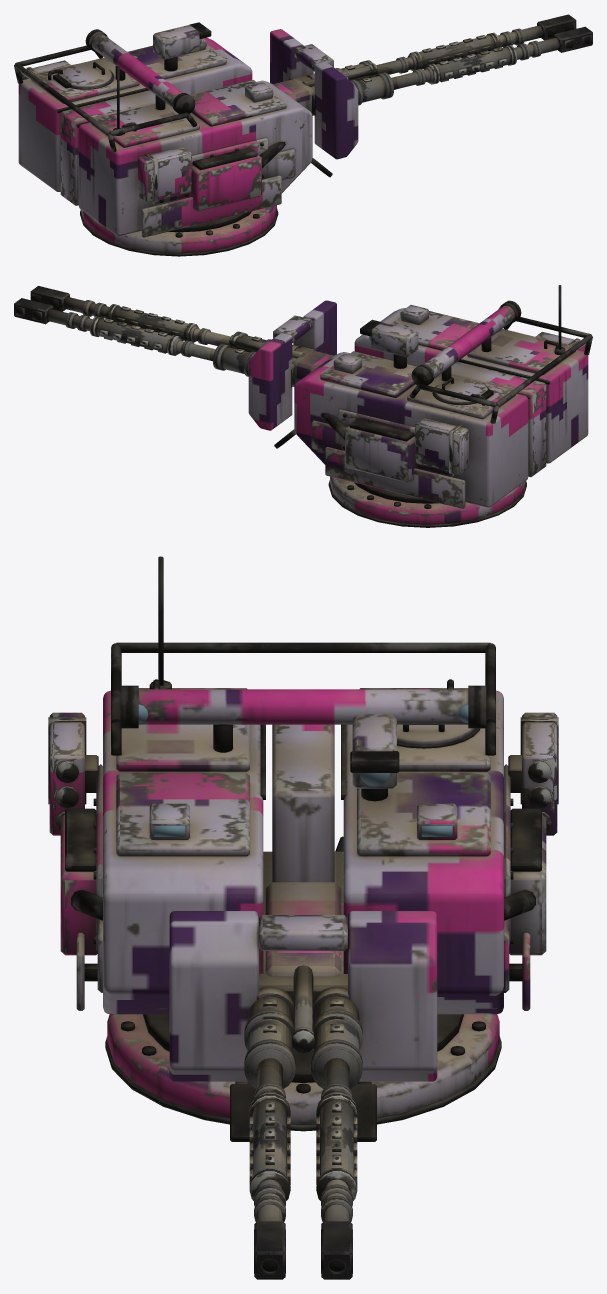
Rendered from turret_kit_t3_pixel.glb.
3 renders of one model, top to bottom at view 1: azimuth 30°, elevation 25°; view 2: azimuth 150°, elevation 25°; view 3: azimuth 270°, elevation 25°, orthographic. The views are drawn at different scales.
Parts seen in each view (by area): view 1: turret_twin_t3, guns, pods; view 2: turret_twin_t3, guns, pods; view 3: turret_twin_t3, guns, pods.
Part boxes in pixels (x1,y1,x2,y2): turret_twin_t3: [14, 22, 358, 256]; guns: [273, 14, 592, 115]; pods: [21, 60, 191, 202]; turret_twin_t3: [248, 285, 592, 527]; guns: [14, 286, 333, 387]; pods: [415, 331, 586, 474]; turret_twin_t3: [60, 556, 546, 1141]; guns: [244, 882, 362, 1279]; pods: [48, 712, 558, 835].
Size of the model in its own units: 2.7 by 0.98 by 1.15.
4 materials, 3 textured.
